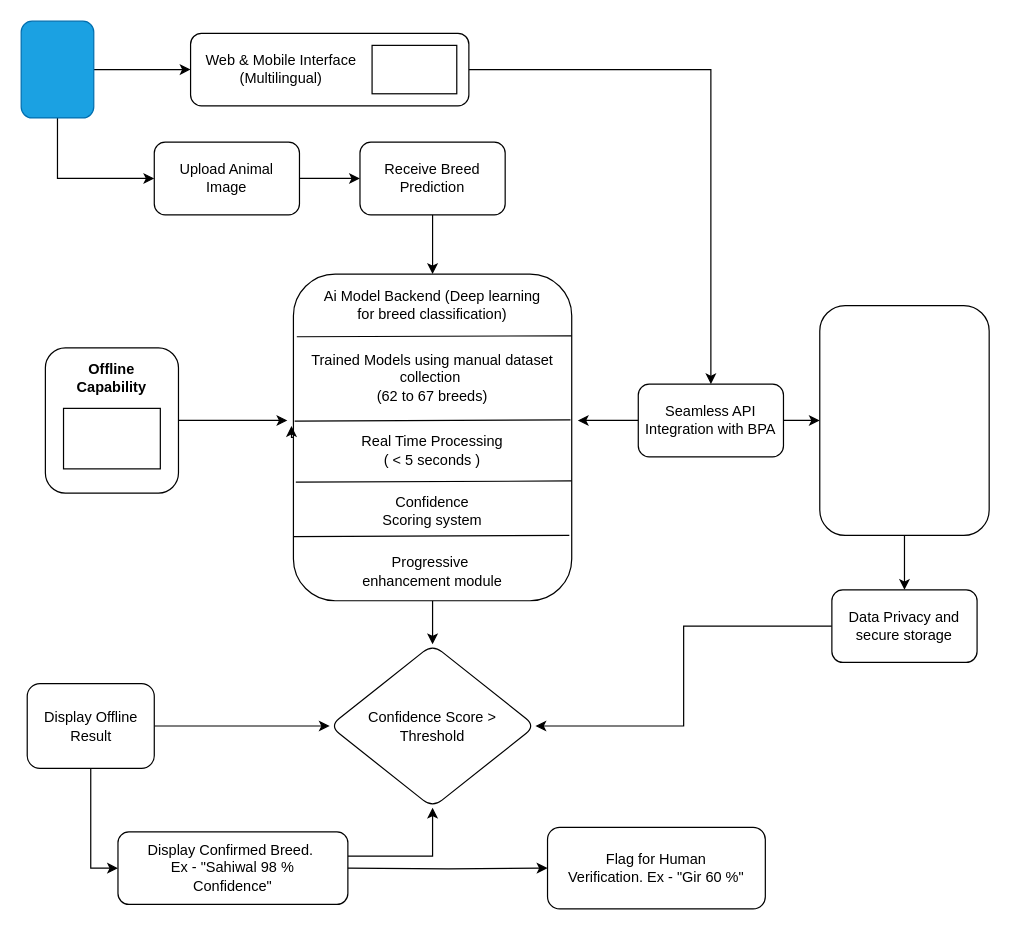
This 1010x930 diagram has some shape labels left out. The shapes that lost their labels are listed below. From the top down, each one's box as (x1, y1, x2, y2) in pixels, then its label:
(20, 20, 94, 118): Start/FLW login
(371, 44, 457, 94): User Friendly
(62, 407, 160, 469): Local Model Inference
(819, 304, 989, 535): Bharat Pashudhan App
